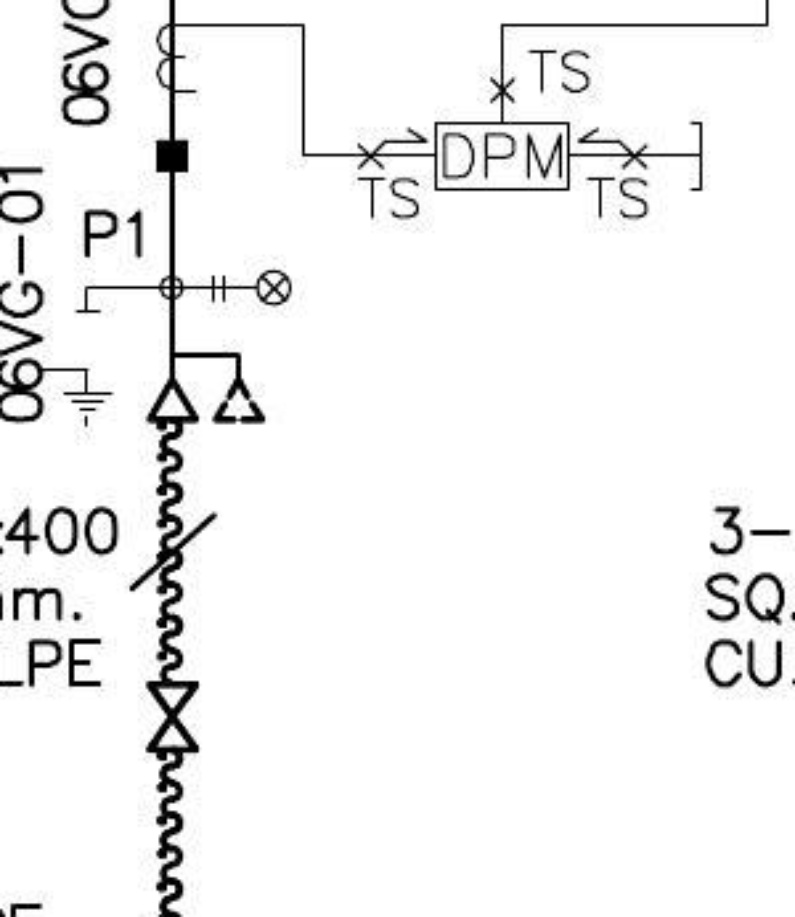22_gs: (41, 308, 115, 429)
22_ll: (210, 268, 293, 308)
DPM: (432, 119, 573, 194)
terminator_splicing_kits: (144, 680, 200, 755)
terminator_w_future: (142, 349, 267, 427)
